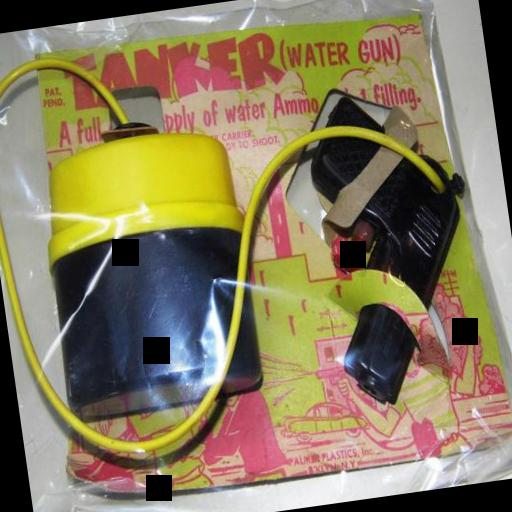Handgun: (287, 66, 495, 414)
